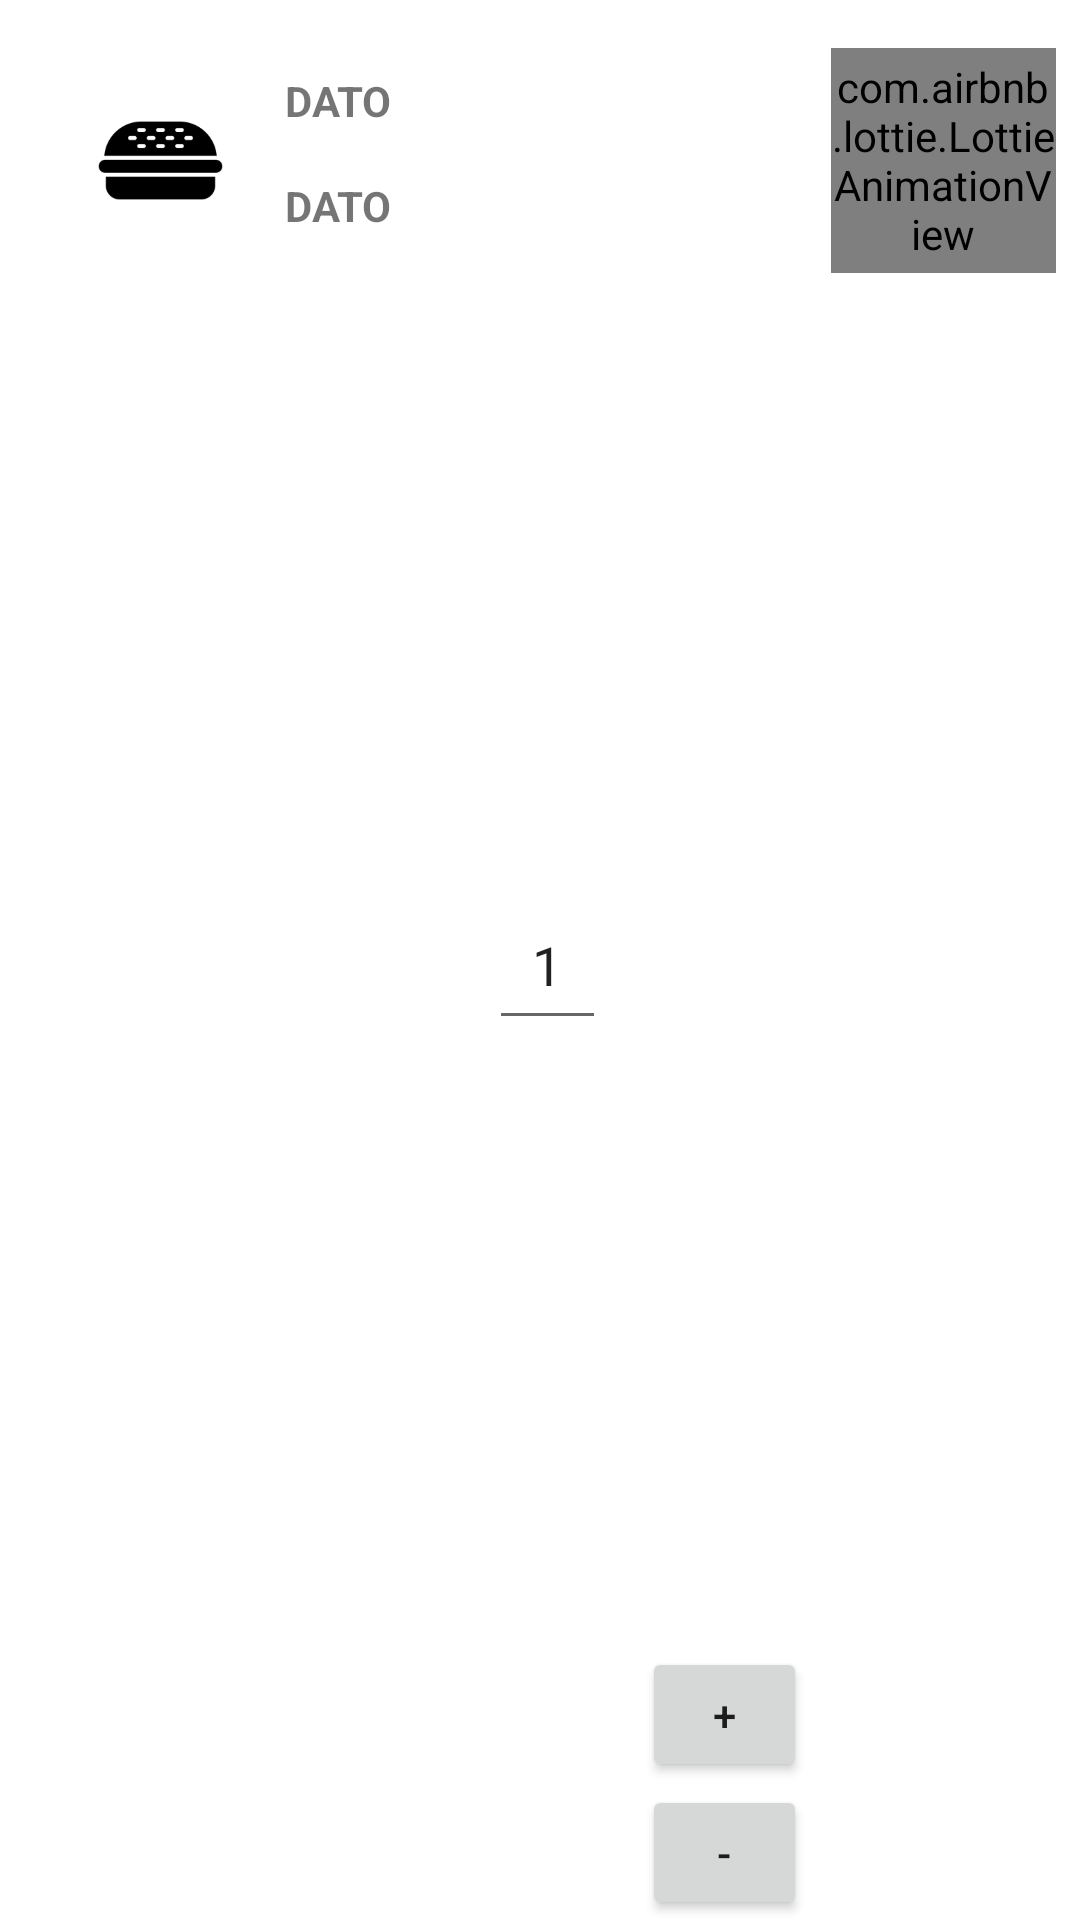

Where icons sit on this 1080px x 1920px app screen, as (left=x1, top=y1, right=x2, bottom=y2):
product: (left=98, top=121, right=223, bottom=200)
